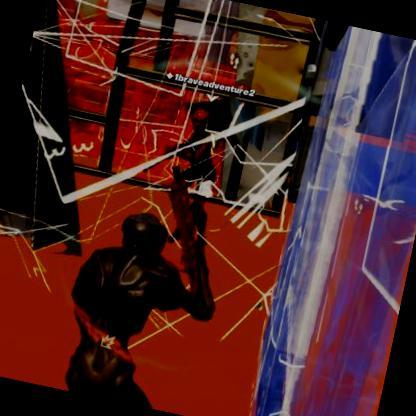person: (152, 105, 238, 244)
